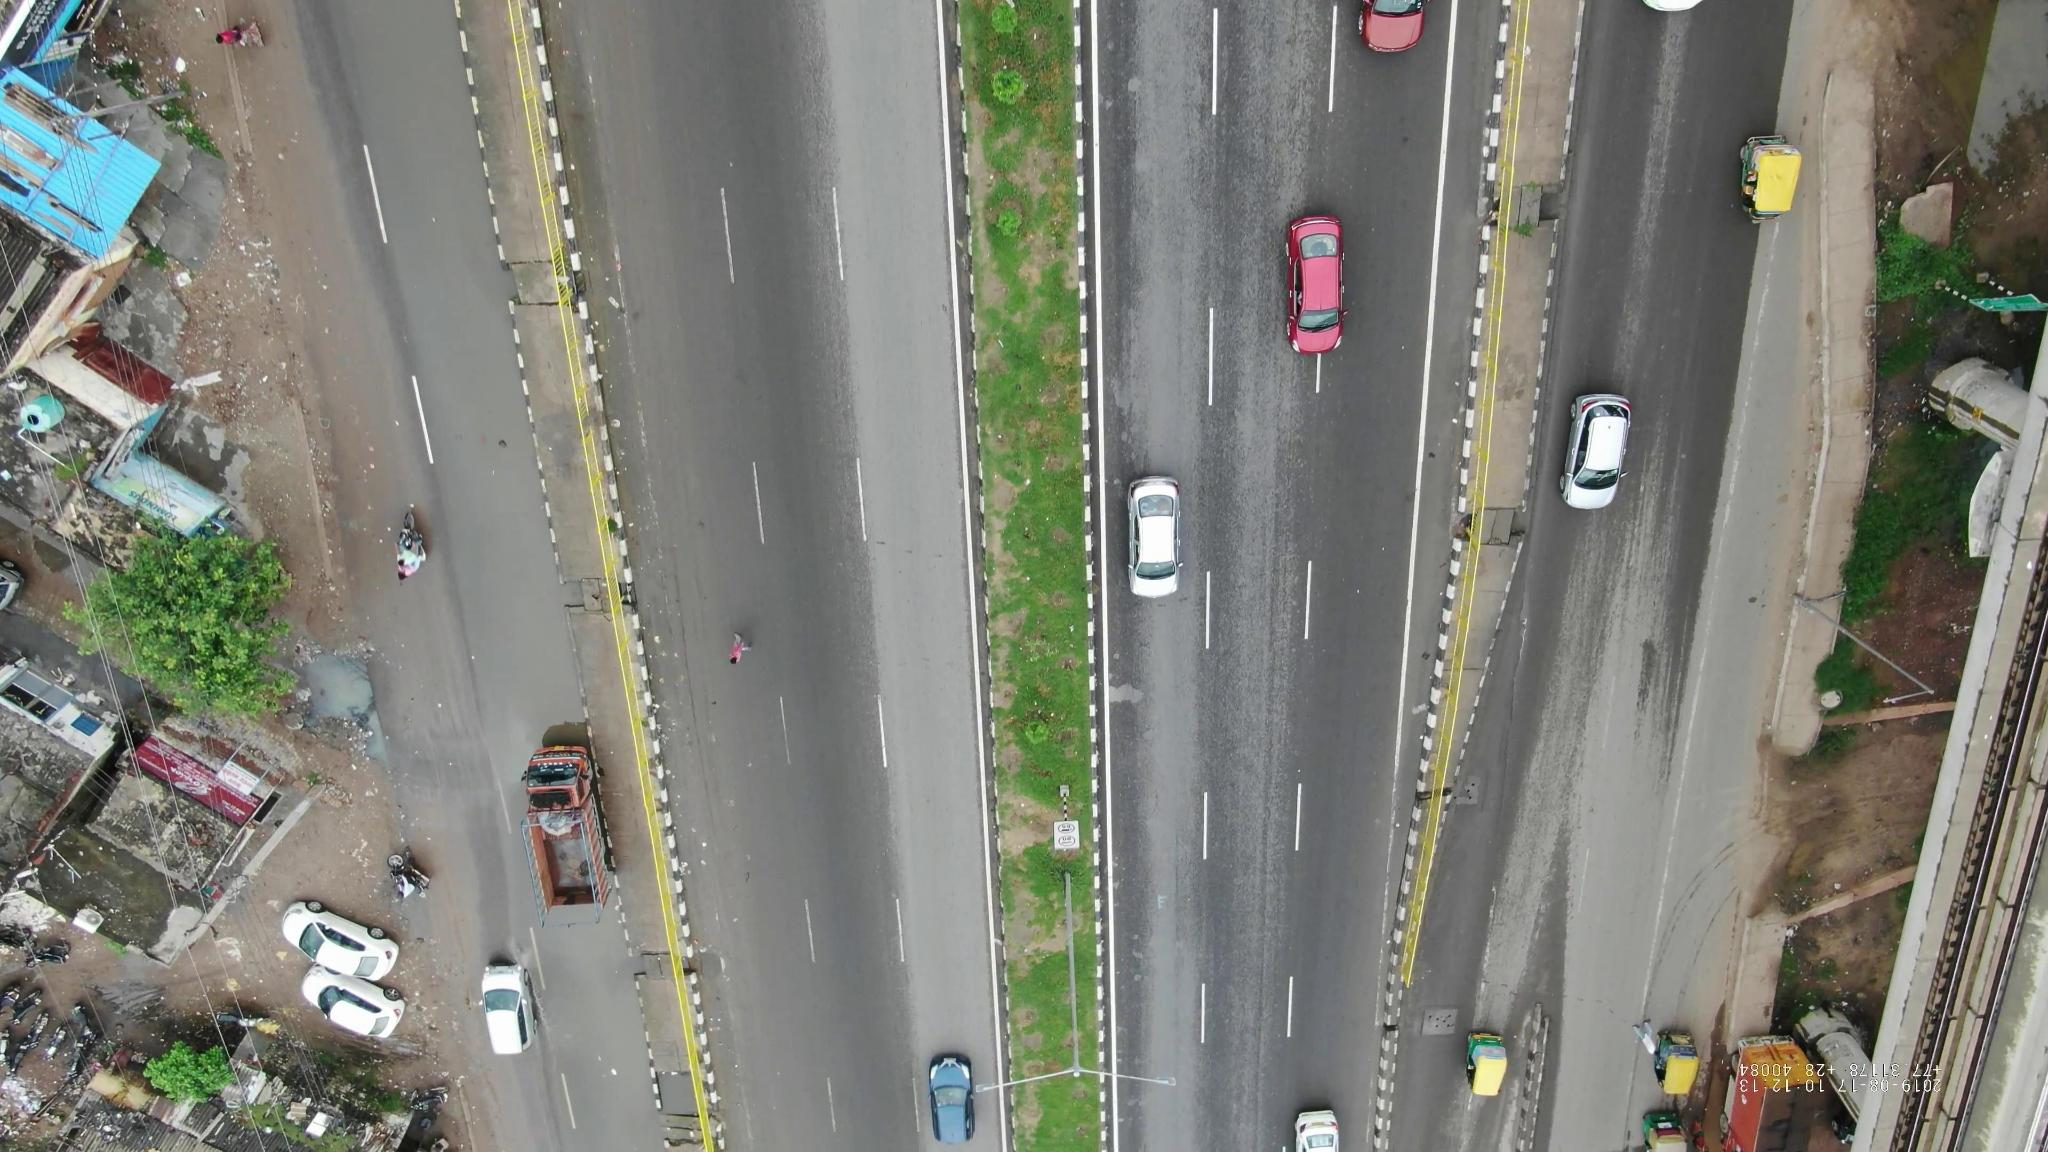Muddy_road: (677, 750, 774, 955), (423, 820, 481, 942), (572, 964, 643, 1056)
Waterlogging: (353, 111, 526, 397), (436, 468, 587, 717)
